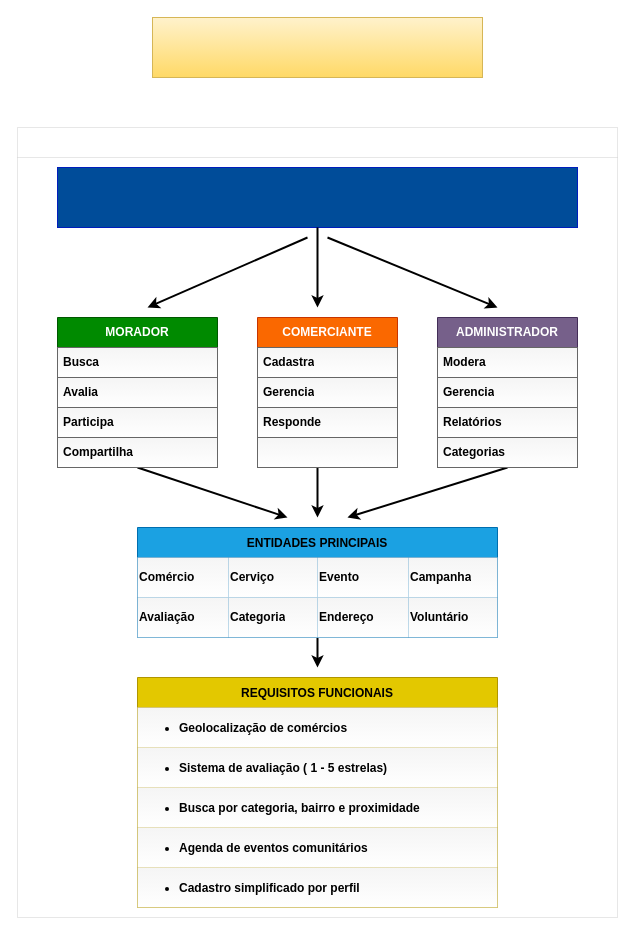
The diagram is 634 pixels wide and 935 high, and some of its shapes have lost their labels. The centre of each missing label's shape, as x and y in pixels:
CIDADE VIRTUAL Plataforma de Conexão Comunitária: the point at 317,197
Mapa Conceitual da Cidade Virtua: the point at 317,47
Visualiza: the point at 327,452
